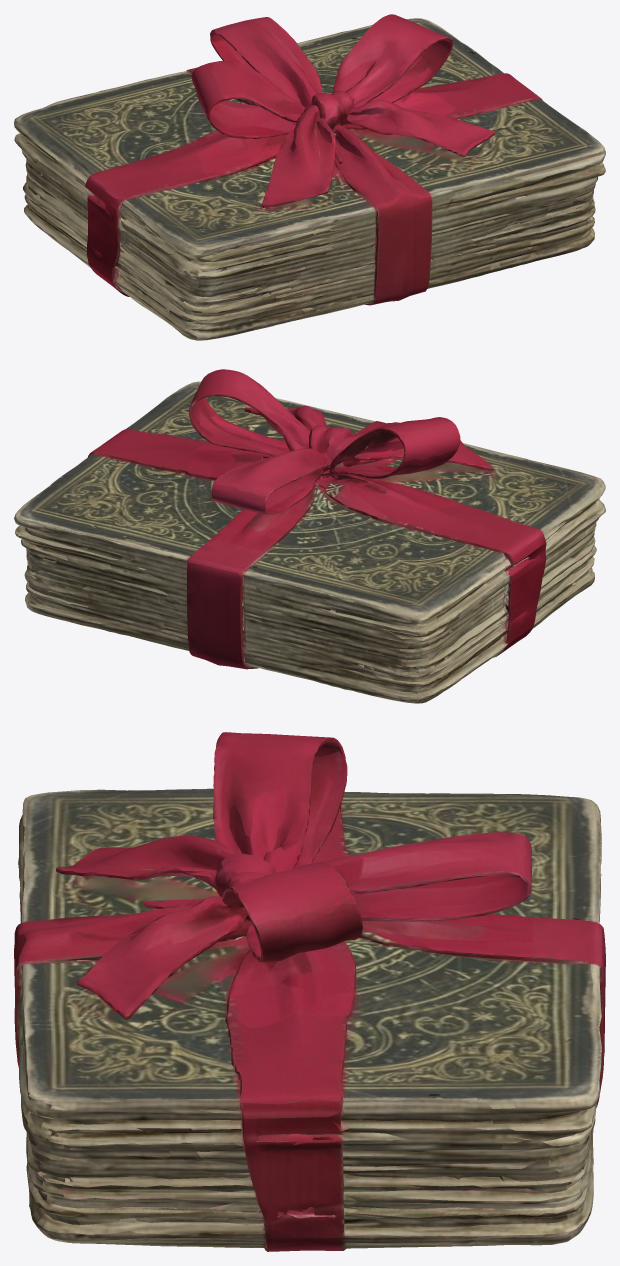
The model's file is deck.glb.
3 views of the same model, one above another, from view 1: azimuth 30°, elevation 25°; view 2: azimuth 150°, elevation 25°; view 3: azimuth 270°, elevation 25° (orthographic). The views are drawn at different scales.
Visible parts, largest first — view 1: geometry_0; view 2: geometry_0; view 3: geometry_0.
Part boxes in pixels (x1,y1,x2,y2): geometry_0: [14, 14, 605, 340]; geometry_0: [14, 369, 605, 703]; geometry_0: [14, 732, 605, 1251].
Bounding box in the file's own units: 0.21 × 0.098 × 0.1639.
1 material, 1 textured.
